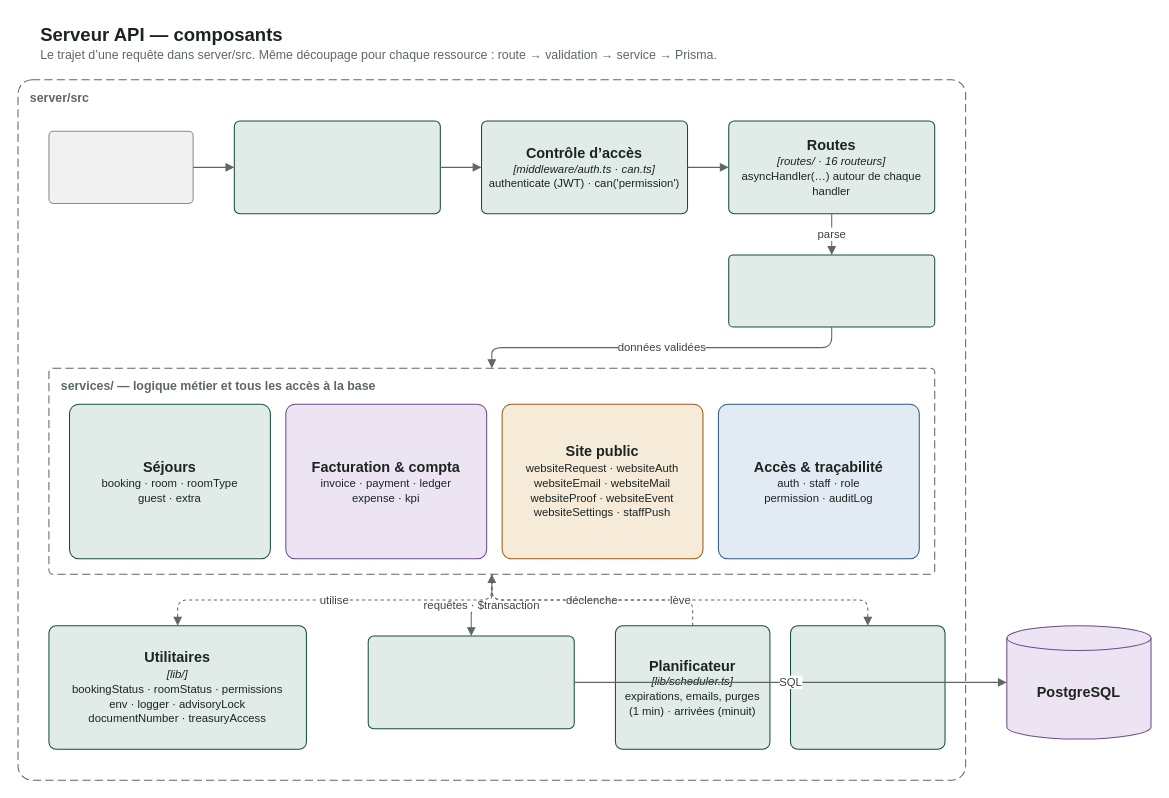
The diagram is 1169 pixels wide and 798 high, and some of its shapes have lost their labels. The shapes that lost their labels are listed below. From the top down, each one's centre as x and y in pixels, then its label:
At point 120,166: "Requête HTTP site ou back-office".
At point 336,167: "Middlewares globaux [app.ts] cors · pino-http · metrics · auditLog".
At point 831,290: "Validation [validation/*.schema.ts] Zod : 400 si invalide".
At point 470,682: "Client Prisma [lib/prisma.ts] journalise les requêtes lentes".
At point 867,687: "Erreurs [errors/ · errorHandler.ts] AppError → code HTTP ; P2025/P2002 mappés".
